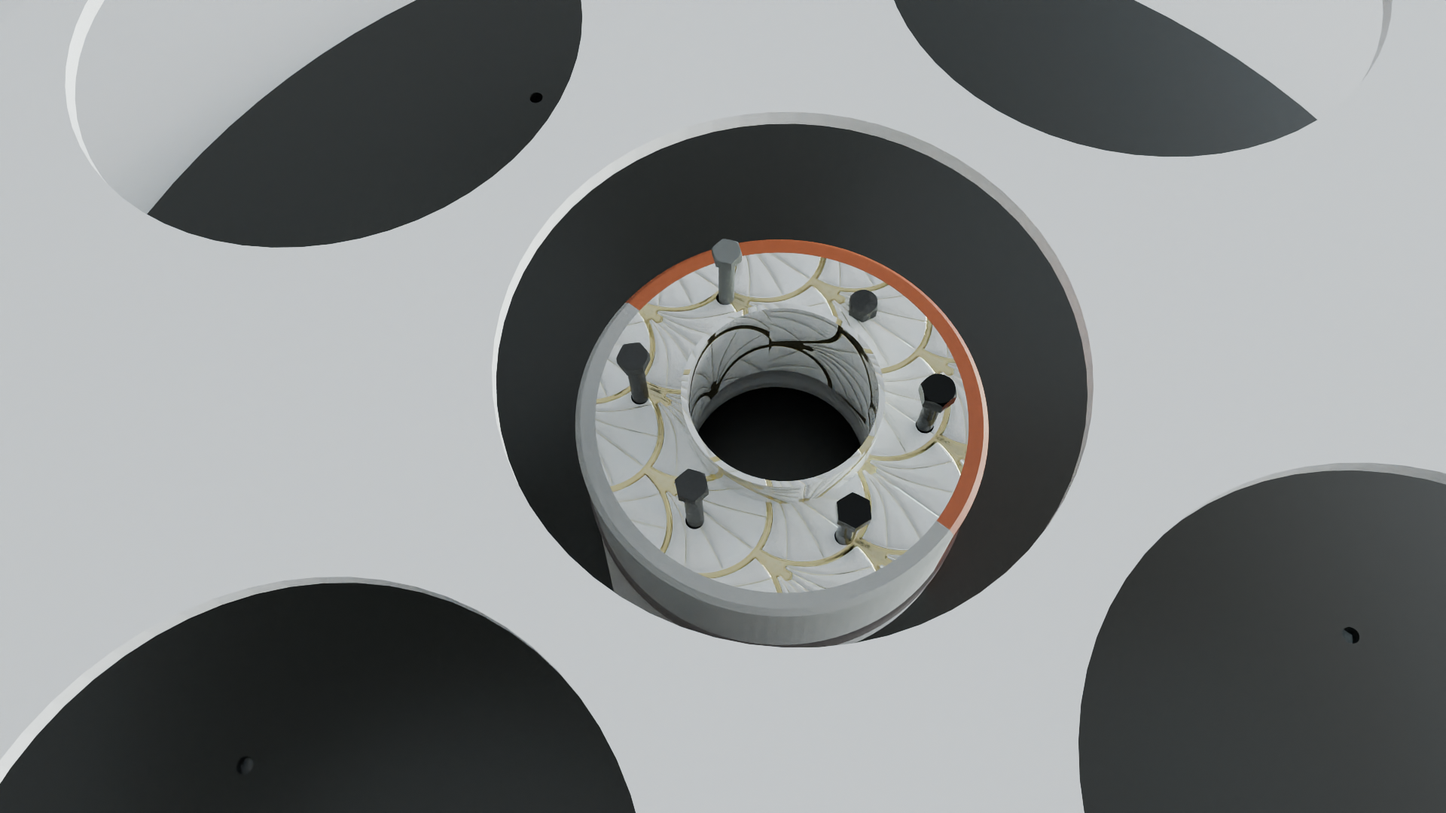bolt: (920, 373, 957, 407), (837, 492, 871, 528), (675, 469, 709, 501), (616, 343, 650, 370), (712, 239, 742, 265), (850, 290, 878, 316)
